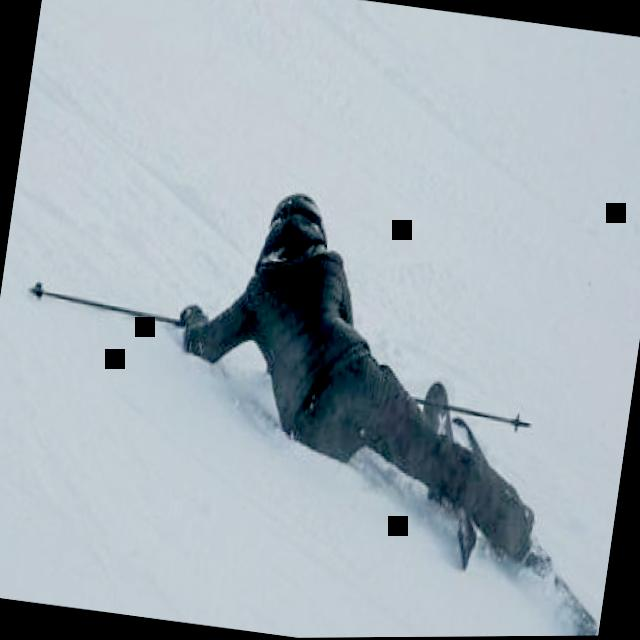Fall-Detected: (131, 157, 640, 600)
